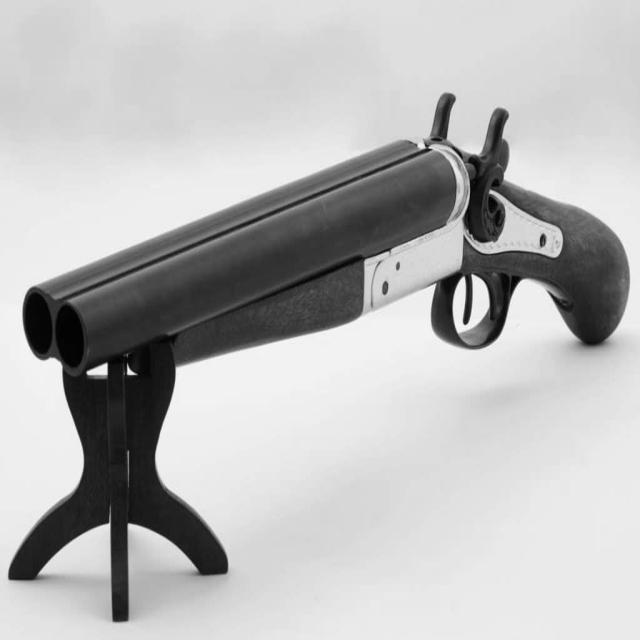Short-Gun: (31, 90, 620, 440)
